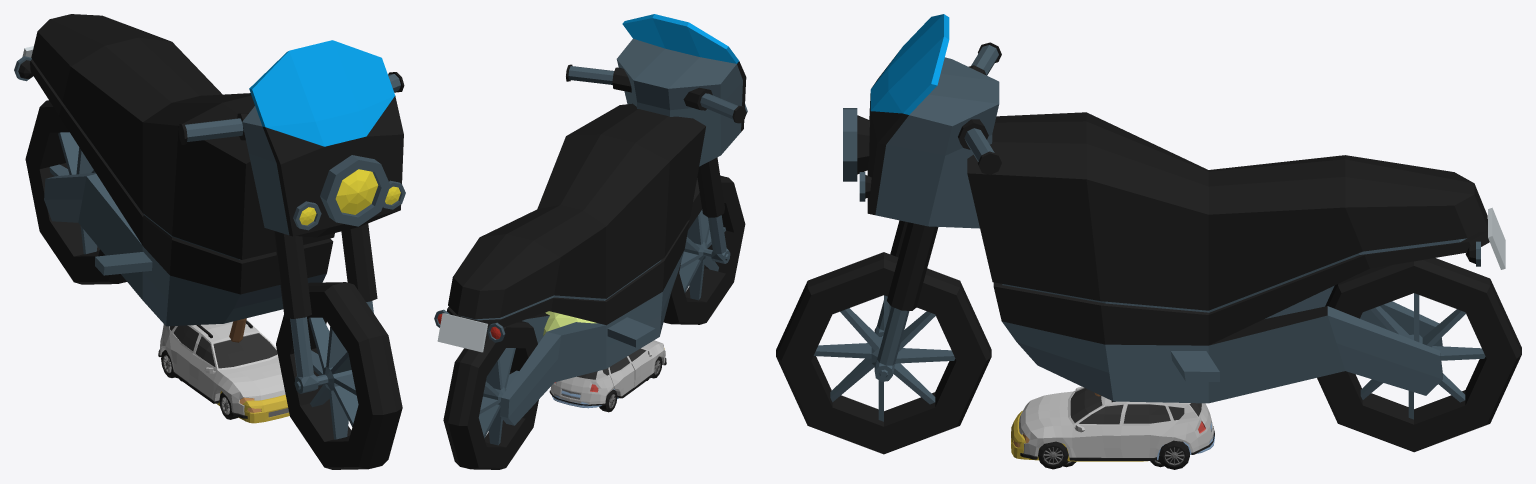
File: props.glb
The picture shows the model from 3 angles, left to right: view 1: azimuth 30°, elevation 25°; view 2: azimuth 150°, elevation 25°; view 3: azimuth 270°, elevation 25°; orthographic projection. The views are drawn at different scales.
Parts seen in each view (by area): view 1: Circle.001_Circle.007, SUV_Cube, Taxi_Cube.009; view 2: Circle.001_Circle.007, SUV_Cube, Tree2; view 3: Circle.001_Circle.007, SUV_Cube.
Boxes of the visible parts, x1,y1,x2,y2 form: Circle.001_Circle.007: [14, 14, 405, 469]; SUV_Cube: [158, 319, 285, 418]; Taxi_Cube.009: [216, 391, 289, 423]; Circle.001_Circle.007: [434, 14, 747, 469]; SUV_Cube: [549, 340, 666, 405]; Tree2: [543, 311, 596, 335]; Circle.001_Circle.007: [776, 14, 1521, 454]; SUV_Cube: [1019, 387, 1214, 460].
Bounding box in the file's own units: 5.68 × 10.06 × 15.79.
